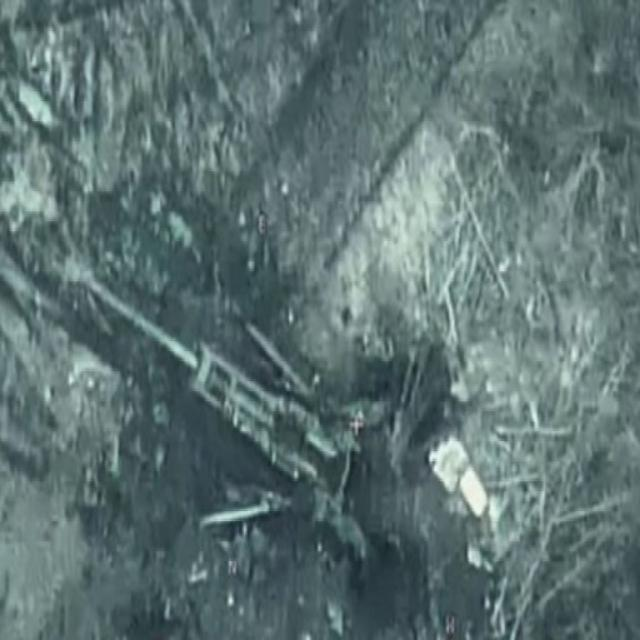ART: (76, 260, 375, 571)
